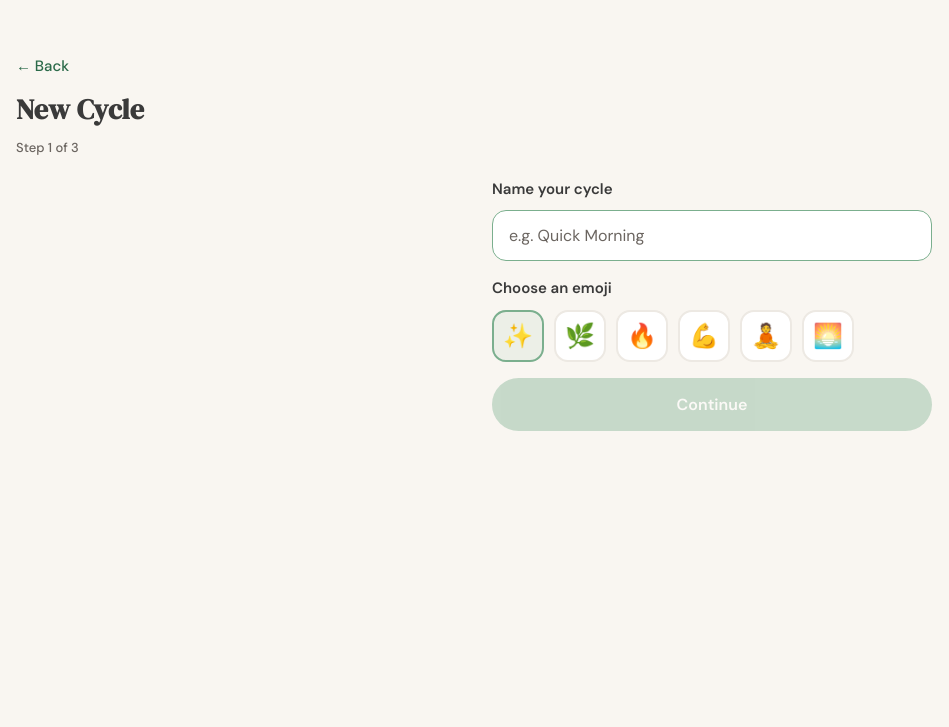
Test case: CycleBuilder — step 2 (select exercises) › disables Continue until at least one exercise is selected
The width and height of the screenshot is (949, 727).
In the field with placeholder "e.g. Quick Morning": coordinates (712, 236) [492,210,932,261], type "My Mix"
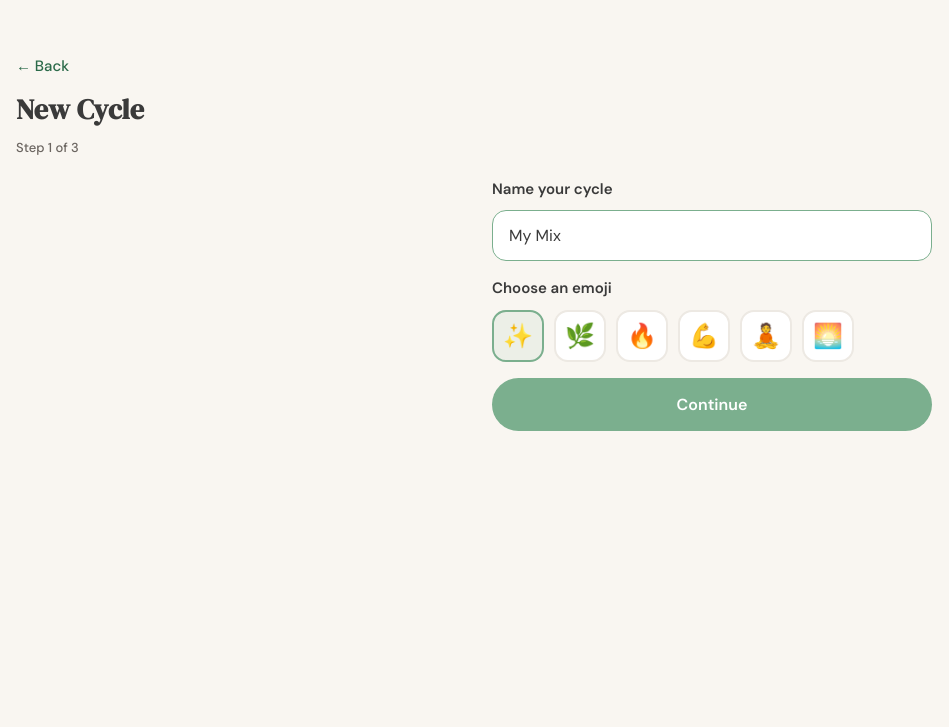
Click the button "Continue": coordinates (712, 404) [492,378,932,430]
(page scrolled)
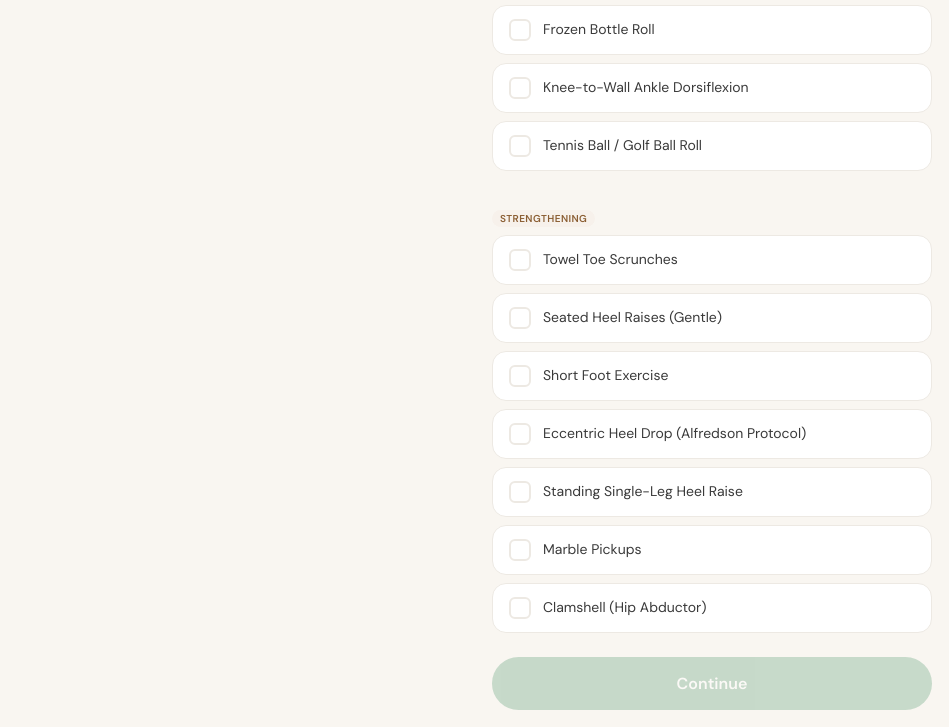
Expected: the button "Continue" is disabled, [492,656,932,710]
